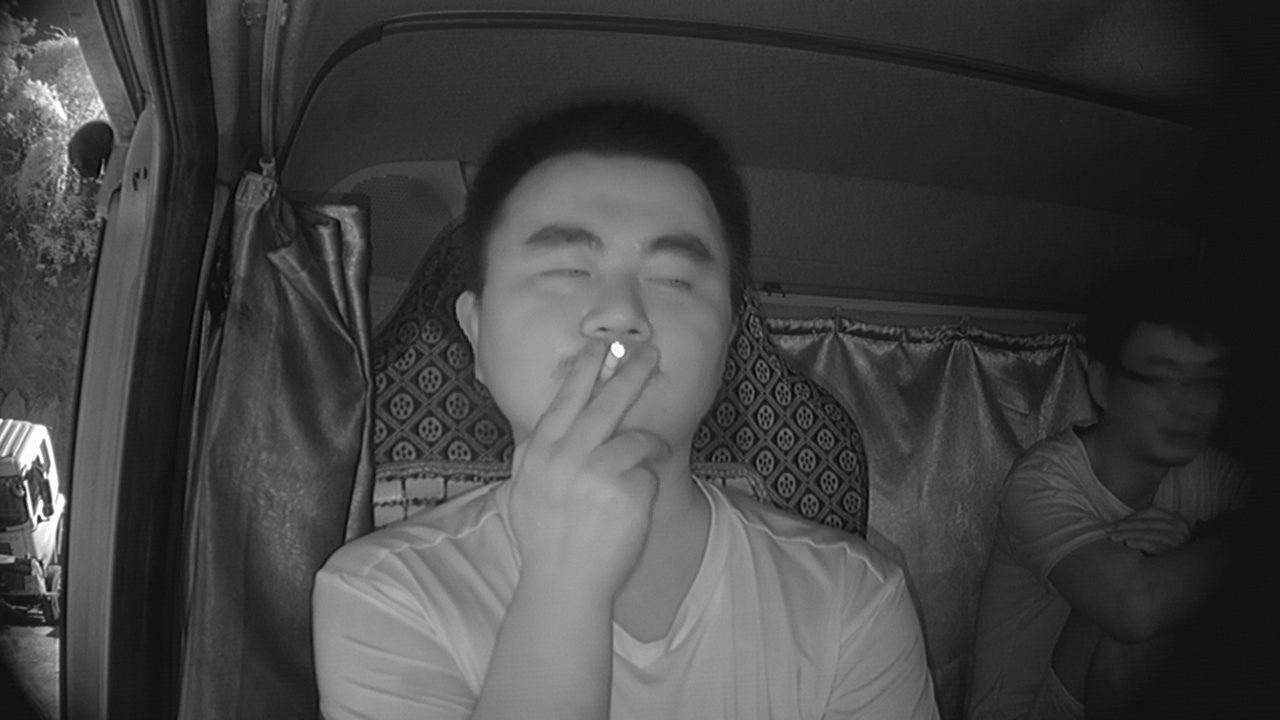hand: (506, 335, 689, 564)
